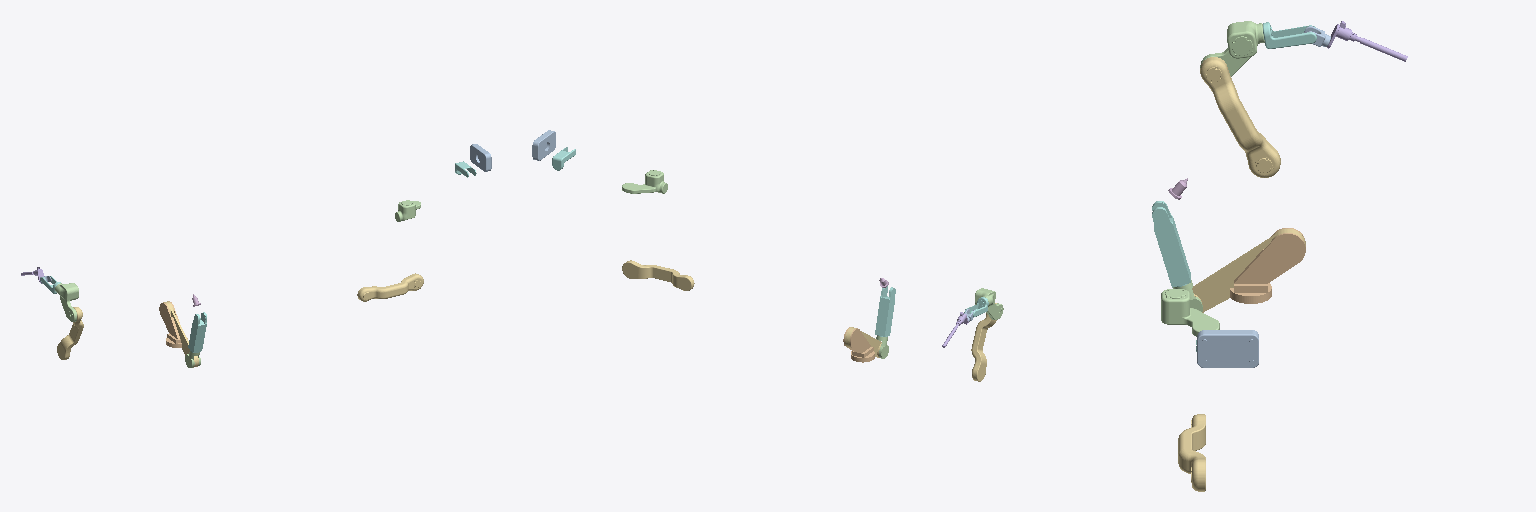
--- Render facts (derived) ---
3 views of the same robot in one strip: view 1: azimuth 30°, elevation 25°; view 2: azimuth 150°, elevation 25°; view 3: azimuth 270°, elevation 25° (orthographic).
Model multirobot with 25 links and 24 joints (16 revolute, 8 fixed), rooted at world, posed joints at zero except 1 at the middle of their limits (sero_2_j2 = 1.43).
Links seen in each view (by area): view 1: sero_3_link_2, sero_1_link_2, sero_1_link_3, sero_2_link_4, sero_2_link_1; view 2: sero_3_link_2, sero_1_link_2, sero_2_link_4, sero_3_link_3, sero_2_link_1, sero_3_endeffector_base; view 3: sero_1_link_2, sero_2_link_1, sero_3_endeffector_base, sero_2_link_4, sero_2_link_2, sero_3_link_2, sero_1_link_3, sero_3_link_3, sero_1_link_4, sero_1_endeffector.
Link boxes in pixels (x1,y1,x2,y2): sero_3_link_2: (357,273,423,301); sero_1_link_2: (57,307,83,359); sero_1_link_3: (55,283,78,321); sero_2_link_4: (188,312,206,352); sero_2_link_1: (159,301,187,347); sero_3_link_2: (622,260,694,290); sero_1_link_2: (971,303,996,381); sero_2_link_4: (875,286,895,336); sero_3_link_3: (622,170,667,193); sero_2_link_1: (843,327,874,362); sero_3_endeffector_base: (532,130,555,160); sero_1_link_2: (1200,57,1280,177); sero_2_link_1: (1230,228,1305,303); sero_3_endeffector_base: (1197,330,1258,367); sero_2_link_4: (1152,201,1190,287); sero_2_link_2: (1192,229,1305,312); sero_3_link_2: (1178,414,1205,491); sero_1_link_3: (1200,21,1264,76); sero_3_link_3: (1161,289,1219,336); sero_1_link_4: (1263,22,1316,48); sero_1_endeffector: (1327,21,1407,61).
Size in the robot's own frame: 3.73 by 1.03 by 1.17 metres.
Meshes: 21 distinct files referenced, 14 mesh visuals loaded (11 binary STL); not drawn: 10 (reference not matched to a file when rendering).

The robot description file, URDF, robot "multirobot":
<robot name="multirobot">

<link name="world" />
    


<!-- Robot description for the SERO-1 robot -->
<link name="sero_1_base">
<visual>
<origin xyz="1.8041124150158793782e-16 0.05566523198650896731 0" rpy="0 -0 0" />
<geometry>
<mesh filename="package://multirobot/meshes_sero_1/base.stl"/>
</geometry>
<material name="base_material">
<color rgba="0.89019607843137249503 0.69803921568627447236 0.63921568627450975342 1.0"/>
</material>
</visual>
<collision>
<origin xyz="1.8041124150158793782e-16 0.05566523198650896731 0" rpy="0 -0 0" />
<geometry>
<mesh filename="package://multirobot/meshes_sero_1/base.stl"/>
</geometry>
</collision>
<inertial>
<origin xyz="1.1000114868219835157e-10 0.02821395950736303726 0.048033342389235664238" rpy="0 0 0"/>
<mass value="35.08705239524790187" />
<inertia ixx="0.23851697130036866867" ixy="2.720782460153843585e-10"  ixz="-1.0025050005633659025e-10" iyy="0.15387922346861418466" iyz="0.0068756425646022177947" izz="0.32171277328667874373" />
</inertial>
</link>

<link name="sero_1_link_1">
<visual>
<origin xyz="-3.4165628273044953481e-23 4.4252861730203675289e-18 0" rpy="3.141592653589793116 8.8261758232621279394e-33 1.694065894508600302e-21" />
<geometry>
<mesh filename="package://multirobot/meshes_sero_1/link_1.stl"/>
</geometry>
<material name="link_1_material">
<color rgba="0.92156862745098033773 0.80000000000000004441 0.65490196078431373028 1.0"/>
</material>
</visual>
<collision>
<origin xyz="-3.4165628273044953481e-23 4.4252861730203675289e-18 0" rpy="3.141592653589793116 8.8261758232621279394e-33 1.694065894508600302e-21" />
<geometry>
<mesh filename="package://multirobot/meshes_sero_1/link_1.stl"/>
</geometry>
</collision>
<inertial>
<origin xyz="-0.015239689133278312705 -0.021586960622581662095 -0.052922200956408961547" rpy="0 0 0"/>
<mass value="18.368766956758115327" />
<inertia ixx="0.091881923345227628497" ixy="-0.003928507823349794946"  ixz="-0.0058549145264777261236" iyy="0.077315975512156784322" iyz="-0.018619533982869217181" izz="0.081329742201552590597" />
</inertial>
</link>

<link name="sero_1_link_2">
<visual>
<origin xyz="-1.3877787807814456755e-17 2.7755575615628913511e-17 1.0587911840678754238e-22" rpy="3.141592653589793116 8.4703294725430033907e-22 -5.5511151231257827021e-17" />
<geometry>
<mesh filename="package://multirobot/meshes_sero_1/link_2.stl"/>
</geometry>
<material name="link_2_material">
<color rgba="0.94117647058823528106 0.87450980392156862919 0.67843137254901964006 1.0"/>
</material>
</visual>
<collision>
<origin xyz="-1.3877787807814456755e-17 2.7755575615628913511e-17 1.0587911840678754238e-22" rpy="3.141592653589793116 8.4703294725430033907e-22 -5.5511151231257827021e-17" />
<geometry>
<mesh filename="package://multirobot/meshes_sero_1/link_2.stl"/>
</geometry>
</collision>
<inertial>
<origin xyz="-9.7069511742337241048e-09 0.21218755221227947327 -0.047778672194228995196" rpy="0 0 0"/>
<mass value="23.673948033547031145" />
<inertia ixx="0.6558161243846677424" ixy="-4.2793701182063200488e-08"  ixz="1.457960283351658051e-08" iyy="0.037401631785456156132" iyz="0.0087992679245661176157" izz="0.65336519359711076049" />
</inertial>
</link>

<link name="sero_1_link_3">
<visual>
<origin xyz="-1.3877787807814456755e-17 0 -0.02999999999999999542" rpy="0 1.6940658945086006781e-21 0" />
<geometry>
<mesh filename="package://multirobot/meshes_sero_1/link_3.stl"/>
</geometry>
<material name="link_3_material">
<color rgba="0.79607843137254896693 0.90588235294117647189 0.74509803921568629193 1.0"/>
</material>
</visual>
<collision>
<origin xyz="-1.3877787807814456755e-17 0 -0.02999999999999999542" rpy="0 1.6940658945086006781e-21 0" />
<geometry>
<mesh filename="package://multirobot/meshes_sero_1/link_3.stl"/>
</geometry>
</collision>
<inertial>
<origin xyz="0.11674575857875565954 0.092289914347079254897 0.0096232090141137420491" rpy="0 0 0"/>
<mass value="17.046409404154786671" />
<inertia ixx="0.074800627899214822136" ixy="-0.036857779963696414571"  ixz="-0.0059546580572337063156" iyy="0.07889465668196611603" iyz="-0.011906977912637863731" izz="0.11406256275854873006" />
</inertial>
</link>

<link name="sero_1_link_4">
<visual>
<origin xyz="0 0 2.7755575615628913511e-17" rpy="-3.141592653589793116 -0 2.1175823681357508477e-22" />
<geometry>
<mesh filename="package://multirobot/meshes_sero_1/link_4.stl"/>
</geometry>
<material name="link_4_material">
<color rgba="0.73725490196078435901 0.9372549019607843146 0.91764705882352937127 1.0"/>
</material>
</visual>
<collision>
<origin xyz="0 0 2.7755575615628913511e-17" rpy="-3.141592653589793116 -0 2.1175823681357508477e-22" />
<geometry>
<mesh filename="package://multirobot/meshes_sero_1/link_4.stl"/>
</geometry>
</collision>
<inertial>
<origin xyz="3.2977564252776502989e-09 -0.02702676809649579362 -0.062304227824277469416" rpy="0 0 0"/>
<mass value="3.4104383191089318039" />
<inertia ixx="0.013598205960530259859" ixy="3.5112585730628976798e-10"  ixz="-2.2034950615846304763e-10" iyy="0.013866957658279771906" iyz="-0.0019762165524031542925" izz="0.0046399785925361671651" />
</inertial>
</link>

<link name="sero_1_link_5">
<visual>
<origin xyz="0 0 -0.058999999999999996891" rpy="0 -0 0" />
<geometry>
<mesh filename="package://multirobot/meshes_sero_1/link_5.stl"/>
</geometry>
<material name="link_5_material">
<color rgba="0.76078431372549015776 0.83921568627450982003 0.92549019607843141522 1.0"/>
</material>
</visual>
<collision>
<origin xyz="0 0 -0.058999999999999996891" rpy="0 -0 0" />
<geometry>
<mesh filename="package://multirobot/meshes_sero_1/link_5.stl"/>
</geometry>
</collision>
<inertial>
<origin xyz="-4.0468429552451979308e-09 0.039174510825137690007 -0.029499999335107222193" rpy="0 0 0"/>
<mass value="1.3085442124892889826" />
<inertia ixx="0.0013064926249374241018" ixy="9.912058132376598351e-11"  ixz="-1.9731401884078835894e-09" iyy="0.0006855126077186873227" iyz="-5.917739079764238076e-12" izz="0.0010923022573062720654" />
</inertial>
</link>

<link name="sero_1_endeffector">
<visual>
<origin xyz="0 -0.060000000000000053291 -0.010000000000000008882" rpy="-3.141592653589793116 -0 -4.2351647362715007549e-22" />
<geometry>
<mesh filename="package://multirobot/meshes_sero_1/endeffector.stl"/>
</geometry>
<material name="endeffector_material">
<color rgba="0.80000000000000004441 0.74901960784313725839 0.91372549019607840481 1.0"/>
</material>
</visual>
<collision>
<origin xyz="0 -0.060000000000000053291 -0.010000000000000008882" rpy="-3.141592653589793116 -0 -4.2351647362715007549e-22" />
<geometry>
<mesh filename="package://multirobot/meshes_sero_1/endeffector.stl"/>
</geometry>
</collision>
<inertial>
<origin xyz="-2.007927628673531952e-08 -0.055461111974627962107 -0.097485938408557723522" rpy="0 0 0"/>
<mass value="2.2359613690447335266" />
<inertia ixx="0.020791268849754438591" ixy="-8.8059871773682104797e-10"  ixz="1.914123719498550581e-10" iyy="0.020196057963709122818" iyz="-0.00095402857951714054117" izz="0.0010816277361651634864" />
</inertial>
</link>

<joint name="sero_1_j6" type="revolute">
<origin xyz="1.1102230246251565404e-16 0.079999999999999960032 -0.029499999999999998446" rpy="1.5707963267948892305 -1.5707963265184670121 0" />
<parent link="sero_1_link_5" />
<child link="sero_1_endeffector" />
<axis xyz="0 0 1"/>
<limit effort="1" velocity="20" lower="-3.141592653589793116" upper="3.141592653589793116"/>
<joint_properties friction="0.0"/>
</joint>

<joint name="sero_1_j5" type="revolute">
<origin xyz="-0.030000000000000016237 -0.035000000000000142109 -0.18499999999999999778" rpy="-1.570796326794896558 0.57407536946603265893 1.57079632679489678" />
<parent link="sero_1_link_4" />
<child link="sero_1_link_5" />
<axis xyz="0 0 1"/>
<limit effort="1" velocity="20" lower="-2.0653116879748694146" upper="2.0650581841370048153"/>
<joint_properties friction="0.0"/>
</joint>

<joint name="sero_1_j4" type="revolute">
<origin xyz="0.22000000000000002887 0.12083333333333334814 -0.016980779096484183155" rpy="-1.5707963268408067226 -1.5707952499523358814 1.5707963267450772982" />
<parent link="sero_1_link_3" />
<child link="sero_1_link_4" />
<axis xyz="0 0 1"/>
<limit effort="1" velocity="20" lower="-3.141592653589793116" upper="3.141592653589793116"/>
<joint_properties friction="0.0"/>
</joint>

<joint name="sero_1_j3" type="revolute">
<origin xyz="0 0.44999999999999995559 1.2533970036995509267e-18" rpy="3.141592653589793116 3.529925104387571233e-17 -2.8217730704100758565" />
<parent link="sero_1_link_2" />
<child link="sero_1_link_3" />
<axis xyz="0 0 1"/>
<limit effort="1" velocity="20" lower="-3.2351423014966895764" upper="1.7570410727549981011"/>
<joint_properties friction="0.0"/>
</joint>

<joint name="sero_1_j2" type="revolute">
<origin xyz="0 -0.060000000000000004718 -0.14500000000000001776" rpy="-1.570796326794896558 -0.46704913247174045798 1.570796326794896336" />
<parent link="sero_1_link_1" />
<child link="sero_1_link_2" />
<axis xyz="0 0 1"/>
<limit effort="1" velocity="20" lower="-1.8110811019912356201" upper="1.8362307380071132279"/>
<joint_properties friction="0.0"/>
</joint>

<joint name="sero_1_j1" type="revolute">
<origin xyz="1.8041113859237242606e-16 0.055665231986508988127 0.10499999999999999611" rpy="-3.1415926535897926719 6.8688042396975808885e-17 8.1606641769779487982e-06" />
<parent link="sero_1_base" />
<child link="sero_1_link_1" />
<axis xyz="0 0 1"/>
<limit effort="1" velocity="20" lower="-3.141592653589793116" upper="3.141592653589793116"/>
<joint_properties friction="0.0"/>
</joint>

<joint name="fixed_link_to_world" type="fixed">
<parent link="world" />
<child link="sero_1_base" />
</joint>



<!-- Robot description for the SERO-2 robot  -->
<link name="sero_2_base">
<visual>
<origin xyz="-1.5815932371176240324e-17 0.0003676064896688987756 1.2462514743223658495e-17" rpy="-9.3394600618250885692e-16 1.4558378780933280025e-22 -1.0606777952125936304e-24" />
<geometry>
<mesh filename="package://multirobot/meshes_sero_2/base.stl"/>
</geometry>
<material name="base_material">
<color rgba="0.89019607843137249503 0.69803921568627447236 0.63921568627450975342 1.0"/>
</material>
</visual>
<collision>
<origin xyz="-1.5815932371176240324e-17 0.0003676064896688987756 1.2462514743223658495e-17" rpy="-9.3394600618250885692e-16 1.4558378780933280025e-22 -1.0606777952125936304e-24" />
<geometry>
<mesh filename="package://multirobot/meshes_sero_2/base.stl"/>
</geometry>
</collision>
<inertial>
<origin xyz="-1.1008906693734771152e-17 0.01712945505275543373 0.053277045661753889838" rpy="0 0 0"/>
<mass value="49.341703062128146939" />
<inertia ixx="0.48030579732272715709" ixy="2.2775645730969955764e-16"  ixz="-1.5614007003723059311e-19" iyy="0.32715051410827444833" iyz="0.026418917266756287293" izz="0.66330772835406781596" />
</inertial>
</link>

<link name="sero_2_link_1">
<visual>
<origin xyz="0 -6.9388937082278788177e-18 0" rpy="3.141592653589793116 -6.6648828361145180298e-38 0" />
<geometry>
<mesh filename="package://multirobot/meshes_sero_2/link_01.stl"/>
</geometry>
<material name="link_01_material">
<color rgba="0.92156862745098033773 0.80000000000000004441 0.65490196078431373028 1.0"/>
</material>
</visual>
<collision>
<origin xyz="0 -6.9388937082278788177e-18 0" rpy="3.141592653589793116 -6.6648828361145180298e-38 0" />
<geometry>
<mesh filename="package://multirobot/meshes_sero_2/link_01.stl"/>
</geometry>
</collision>
<inertial>
<origin xyz="-1.3930947794738095121e-17 0.039678416839350458267 -0.088135224166391870626" rpy="0 0 0"/>
<mass value="19.091905974861962392" />
<inertia ixx="0.17356539548813906815" ixy="1.3064932428437966355e-41"  ixz="1.1588565508314935939e-38" iyy="0.10969326521272225461" iyz="0.06154665368139393411" izz="0.097209143603018868807" />
</inertial>
</link>

<link name="sero_2_link_2">
<visual>
<origin xyz="0.3869932029135638718 5.5511151231257827021e-17 -0.020000000000000000416" rpy="-1.4791141972893971351e-31 -0 0" />
<geometry>
<mesh filename="package://multirobot/meshes_sero_2/link_02.stl"/>
</geometry>
<material name="link_02_material">
<color rgba="0.94117647058823528106 0.87450980392156862919 0.67843137254901964006 1.0"/>
</material>
</visual>
<collision>
<origin xyz="0.3869932029135638718 5.5511151231257827021e-17 -0.020000000000000000416" rpy="-1.4791141972893971351e-31 -0 0" />
<geometry>
<mesh filename="package://multirobot/meshes_sero_2/link_02.stl"/>
</geometry>
</collision>
<inertial>
<origin xyz="0.19868099262593577614 5.3251367445785958629e-06 -0.019999999999999996947" rpy="0 0 0"/>
<mass value="13.731956551120582333" />
<inertia ixx="0.018356645947704766653" ixy="-5.0560961534334941903e-06"  ixz="5.2055933418348150452e-32" iyy="0.51193263504671415731" iyz="-2.3665497291348866197e-32" izz="0.52790229780144803939" />
</inertial>
</link>

<link name="sero_2_link_3">
<visual>
<origin xyz="0.082936154343289242297 0.040000000000000035527 0.051595448702573779021" rpy="1.570796326794896558 -9.8607613152626475676e-32 -5.5511151231257827021e-17" />
<geometry>
<mesh filename="package://multirobot/meshes_sero_2/link_03.stl"/>
</geometry>
<material name="link_03_material">
<color rgba="0.79607843137254896693 0.90588235294117647189 0.74509803921568629193 1.0"/>
</material>
</visual>
<collision>
<origin xyz="0.082936154343289242297 0.040000000000000035527 0.051595448702573779021" rpy="1.570796326794896558 -9.8607613152626475676e-32 -5.5511151231257827021e-17" />
<geometry>
<mesh filename="package://multirobot/meshes_sero_2/link_03.stl"/>
</geometry>
</collision>
<inertial>
<origin xyz="0.027737840329478243018 2.7755575615628913511e-17 0.020000000000000087153" rpy="0 0 0"/>
<mass value="4.3889152375046247556" />
<inertia ixx="0.0061998414225303945593" ixy="1.1033789677823471709e-18"  ixz="-6.0558728947049249777e-34" iyy="0.01303827492757124451" iyz="-6.4283658511776695879e-34" izz="0.012341226150433244266" />
</inertial>
</link>

<link name="sero_2_link_4">
<visual>
<origin xyz="-5.7182229731586198856e-18 -1.1102230246251565404e-16 -0.0050000000000000044409" rpy="1.570796326794896558 7.3955709864469856757e-32 2.7117093616972280811e-31" />
<geometry>
<mesh filename="package://multirobot/meshes_sero_2/link_04.stl"/>
</geometry>
<material name="link_04_material">
<color rgba="0.73725490196078435901 0.9372549019607843146 0.91764705882352937127 1.0"/>
</material>
</visual>
<collision>
<origin xyz="-5.7182229731586198856e-18 -1.1102230246251565404e-16 -0.0050000000000000044409" rpy="1.570796326794896558 7.3955709864469856757e-32 2.7117093616972280811e-31" />
<geometry>
<mesh filename="package://multirobot/meshes_sero_2/link_04.stl"/>
</geometry>
</collision>
<inertial>
<origin xyz="6.706124958959406219e-08 2.5645657196301469083e-07 -0.15365038198320141172" rpy="0 0 0"/>
<mass value="15.107736051004897249" />
<inertia ixx="0.13214990381477231818" ixy="4.4796122324437923437e-08"  ixz="-3.024594803775144215e-07" iyy="0.13305214321537708888" iyz="1.9559808232033071674e-07" izz="0.016366262810169347752" />
</inertial>
</link>

<link name="sero_2_link_5">
<visual>
<origin xyz="-0.069999999999999895639 -1.1102230246251565404e-16 0.010000000000000005412" rpy="1.570796326794896558 1.570796326794896558 0" />
<geometry>
<mesh filename="package://multirobot/meshes_sero_2/link_05.stl"/>
</geometry>
<material name="link_05_material">
<color rgba="0.76078431372549015776 0.83921568627450982003 0.92549019607843141522 1.0"/>
</material>
</visual>
<collision>
<origin xyz="-0.069999999999999895639 -1.1102230246251565404e-16 0.010000000000000005412" rpy="1.570796326794896558 1.570796326794896558 0" />
<geometry>
<mesh filename="package://multirobot/meshes_sero_2/link_05.stl"/>
</geometry>
</collision>
<inertial>
<origin xyz="-0.035772312271263068117 -1.082749957061830637e-16 -0.019999999999999996947" rpy="0 0 0"/>
<mass value="2.3102574452715738396" />
<inertia ixx="0.0010511771695403894673" ixy="2.3186664240757424612e-19"  ixz="-1.7385449251018909641e-34" iyy="0.003125760927845208214" iyz="7.0337489501620479173e-34" izz="0.0035261880285266476026" />
</inertial>
</link>

<link name="sero_2_endeffector">
<visual>
<origin xyz="5.9164567891575885406e-31 -1.1102230246251565404e-16 0" rpy="3.141592653589793116 -0 9.8607613152626475676e-32" />
<geometry>
<mesh filename="package://multirobot/meshes_sero_2/ee.stl"/>
</geometry>
<material name="ee_material">
<color rgba="0.85098039215686271941 0.7568627450980391913 0.86666666666666669627 1.0"/>
</material>
</visual>
<collision>
<origin xyz="5.9164567891575885406e-31 -1.1102230246251565404e-16 0" rpy="3.141592653589793116 -0 9.8607613152626475676e-32" />
<geometry>
<mesh filename="package://multirobot/meshes_sero_2/ee.stl"/>
</geometry>
</collision>
<inertial>
<origin xyz="4.5844704651727837579e-19 -1.1074837707529742556e-16 -0.029621700270214084555" rpy="0 0 0"/>
<mass value="0.79097658475267251799" />
<inertia ixx="0.00046375431396383494332" ixy="2.2864852994603759838e-34"  ixz="8.1535948214775546414e-35" iyy="0.00046375431396383494332" iyz="-1.1475164562417600293e-20" izz="0.00020671818738927610188" />
</inertial>
</link>

<joint name="fastened" type="fixed">
<origin xyz="-0.095000000000000028866 0 -0.019999999999999965722" rpy="3.141592653589793116 -1.5707963267948950037 0" />
<parent link="sero_2_link_5" />
<child link="sero_2_endeffector" />
<axis xyz="0 0 1"/>
<limit effort="1" velocity="20" />
<joint_properties friction="0.0"/>
</joint>

<joint name="sero_2_j5" type="revolute">
<origin xyz="0.019999999999999986539 -1.1102230246251565404e-16 -0.32499999999999845679" rpy="1.5707963267948970021 -0.6422904971427879639 1.5707963267948992225" />
<parent link="sero_2_link_4" />
<child link="sero_2_link_5" />
<axis xyz="0 0 1"/>
<limit effort="1" velocity="20" lower="-0.1570796326794896558" upper="3.2812189937493396741"/>
<joint_properties friction="0.0"/>
</joint>

<joint name="sero_2_j4" type="revolute">
<origin xyz="0.1052999999999999492 0 0.020000000000000059397" rpy="5.5511151231257814695e-17 -1.5707963267948952257 0" />
<parent link="sero_2_link_3" />
<child link="sero_2_link_4" />
<axis xyz="0 0 1"/>
<limit effort="1" velocity="20" lower="-3.141592653589793116" upper="3.141592653589793116"/>
<joint_properties friction="0.0"/>
</joint>

<joint name="sero_2_j3" type="revolute">
<origin xyz="0.47249999999999992006 5.5511151231257827021e-17 -0.039999999999999993894" rpy="-3.9099808047474802371e-16 6.5349778921725544513e-18 -1.8702914936790970835" />
<parent link="sero_2_link_2" />
<child link="sero_2_link_3" />
<axis xyz="0 0 1"/>
<limit effort="1" velocity="20" lower="-0.36651914291880921537" upper="3.4906585039886590671"/>
<joint_properties friction="0.0"/>
</joint>

<joint name="sero_2_j2" type="revolute">
<origin xyz="-0.020000000000000003886 0.14873863542433760077 -0.20873863542433754303" rpy="1.5707963267948958919 0.855974613270912843 -1.57079632679489678" />
<parent link="sero_2_link_1" />
<child link="sero_2_link_2" />
<axis xyz="0 0 1"/>
<limit effort="1" velocity="20" lower="0.54105206811824213542" upper="2.3212879051524581975"/>
<joint_properties friction="0.0"/>
</joint>

<joint name="sero_2_j1" type="revolute">
<origin xyz="-1.3877787807814459837e-17 0.060367606489668872161 0.12000000000000006495" rpy="-3.1415926535897793492 -8.8628477392845443571e-22 3.141592653589793116" />
<parent link="sero_2_base"/>
<child link="sero_2_link_1" />
<axis xyz="0 0 1"/>
<limit effort="1" velocity="20" lower="-3.141592653589793116" upper="3.141592653589793116"/>
<joint_properties friction="0.0"/>
</joint>

<joint name="sero_1_to_sero_2" type="fixed">
  <parent link="sero_1_base"/>
  <child link="sero_2_base"/>
  <origin xyz="1 0 0" rpy="0 0 0"/>
</joint>



<!-- Robot description for the SERO-3 robot -->
<link name="sero_3_base">
<visual>
<origin xyz="-4.1633363423443370266e-17 1.6949752565162061855e-18 -5.5154662533553587949e-34" rpy="-3.254009893154236877e-16 8.6281661508548166217e-32 1.2347465433156991646e-16" />
<geometry>
<mesh filename="package://multirobot/meshes_sero_3/base.stl"/>
</geometry>
<material name="base_material">
<color rgba="0.89019607843137249503 0.69803921568627447236 0.63921568627450975342 1.0"/>
</material>
</visual>
<collision>
<origin xyz="-4.1633363423443370266e-17 1.6949752565162061855e-18 -5.5154662533553587949e-34" rpy="-3.254009893154236877e-16 8.6281661508548166217e-32 1.2347465433156991646e-16" />
<geometry>
<mesh filename="package://multirobot/meshes_sero_3/base.stl"/>
</geometry>
</collision>
<inertial>
<origin xyz="-1.4191131412431651619e-17 3.093208156293898791e-17 0.039865010471469702891" rpy="0 0 0"/>
<mass value="29.561020908170693389" />
<inertia ixx="0.56414288287999059257" ixy="6.1629758220391547298e-32"  ixz="-2.6008615487439589667e-32" iyy="0.5641428828799902595" iyz="1.5651332502670880486e-16" izz="1.0451288975690682381" />
</inertial>
</link>

<link name="sero_3_link_1">
<visual>
<origin xyz="-6.1629758220391547298e-33 4.8470540592812887996e-18 0" rpy="3.141592653589793116 -2.0861283505423087262e-43 0" />
<geometry>
<mesh filename="package://multirobot/meshes_sero_3/link_1.stl"/>
</geometry>
<material name="link_1_material">
<color rgba="0.92156862745098033773 0.80000000000000004441 0.65490196078431373028 1.0"/>
</material>
</visual>
<collision>
<origin xyz="-6.1629758220391547298e-33 4.8470540592812887996e-18 0" rpy="3.141592653589793116 -2.0861283505423087262e-43 0" />
<geometry>
<mesh filename="package://multirobot/meshes_sero_3/link_1.stl"/>
</geometry>
</collision>
<inertial>
<origin xyz="2.5812154935817390889e-07 0.020078728528027917077 -0.084265679701914092403" rpy="0 0 0"/>
<mass value="32.098264787234505491" />
<inertia ixx="0.15183599668872910238" ixy="-1.1318804273050995291e-06"  ixz="4.1015787527610980043e-07" iyy="0.12206161215963268196" iyz="0.00514067802598717951" izz="0.12973629061825234232" />
</inertial>
</link>

<link name="sero_3_link_2">
<visual>
<origin xyz="0 4.5924254968025766839e-18 4.1183628318625710158e-18" rpy="-3.141592653589793116 9.8607613152626475676e-32 -1.3749793942868710628e-32" />
<geometry>
<mesh filename="package://multirobot/meshes_sero_3/link_2.stl"/>
</geometry>
<material name="link_2_material">
<color rgba="0.94117647058823528106 0.87450980392156862919 0.67843137254901964006 1.0"/>
</material>
</visual>
<collision>
<origin xyz="0 4.5924254968025766839e-18 4.1183628318625710158e-18" rpy="-3.141592653589793116 9.8607613152626475676e-32 -1.3749793942868710628e-32" />
<geometry>
<mesh filename="package://multirobot/meshes_sero_3/link_2.stl"/>
</geometry>
</collision>
<inertial>
<origin xyz="-0.31499983020000299483 -5.9338950341248018232e-08 -0.1048694271057695887" rpy="0 0 0"/>
<mass value="95.412481284338156229" />
<inertia ixx="0.30014578780677336756" ixy="2.7683924706706791416e-07"  ixz="2.5259250984795803334e-06" iyy="5.0701114070706099213" iyz="-3.3364583905554261746e-07" izz="4.9823951617652841861" />
</inertial>
</link>

<link name="sero_3_link_3">
<visual>
<origin xyz="0 0 -3.5177085194790902871e-18" rpy="1.570796326794896558 -1.9721522630525295135e-31 1.3755759769189022776e-33" />
<geometry>
<mesh filename="package://multirobot/meshes_sero_3/link_3.stl"/>
</geometry>
<material name="link_3_material">
<color rgba="0.79607843137254896693 0.90588235294117647189 0.74509803921568629193 1.0"/>
</material>
</visual>
<collision>
<origin xyz="0 0 -3.5177085194790902871e-18" rpy="1.570796326794896558 -1.9721522630525295135e-31 1.3755759769189022776e-33" />
<geometry>
<mesh filename="package://multirobot/meshes_sero_3/link_3.stl"/>
</geometry>
</collision>
<inertial>
<origin xyz="-0.12787550742648204349 -0.086695678159673439378 -0.13092497492624188826" rpy="0 0 0"/>
<mass value="84.06211694702932391" />
<inertia ixx="0.72701390054885139946" ixy="-0.56396100688611627838"  ixz="-0.3398755684914888664" iyy="2.2596801602232305939" iyz="-0.076724939144711401529" izz="2.471848827686650818" />
</inertial>
</link>

<link name="sero_3_link_4">
<visual>
<origin xyz="0 0 3.0295804379226702294e-18" rpy="3.141592653589793116 -0 -3.8393994794198495367e-32" />
<geometry>
<mesh filename="package://multirobot/meshes_sero_3/link_4.stl"/>
</geometry>
<material name="link_4_material">
<color rgba="0.73725490196078435901 0.9372549019607843146 0.91764705882352937127 1.0"/>
</material>
</visual>
<collision>
<origin xyz="0 0 3.0295804379226702294e-18" rpy="3.141592653589793116 -0 -3.8393994794198495367e-32" />
<geometry>
<mesh filename="package://multirobot/meshes_sero_3/link_4.stl"/>
</geometry>
</collision>
<inertial>
<origin xyz="-0.0057366460591120483486 -0.056799838397228498421 -0.078907548477852723634" rpy="0 0 0"/>
<mass value="35.563010627334307401" />
<inertia ixx="0.14795985643388004371" ixy="-0.006773630552061549355"  ixz="-0.00022289820645230695706" iyy="0.19264265280028286531" iyz="-0.002206662293176273916" izz="0.2475639065566472008" />
</inertial>
</link>

<link name="sero_3_endeffector_base">
<visual>
<origin xyz="6.6613381471808452436e-18 0 -0.080000000000000071054" rpy="3.141592653589793116 -0 0" />
<geometry>
<mesh filename="package://multirobot/meshes_sero_3/ee_base.stl"/>
</geometry>
<material name="ee_base_material">
<color rgba="0.76078431372549015776 0.83921568627450982003 0.92549019607843141522 1.0"/>
</material>
</visual>
<collision>
<origin xyz="6.6613381471808452436e-18 0 -0.080000000000000071054" rpy="3.141592653589793116 -0 0" />
<geometry>
<mesh filename="package://multirobot/meshes_sero_3/ee_base.stl"/>
</geometry>
</collision>
<inertial>
<origin xyz="9.8538615821355001922e-18 1.3275424895558869447e-17 -0.0057551348153010856157" rpy="0 0 0"/>
<mass value="13.798178184326982176" />
<inertia ixx="0.028682988283033793858" ixy="0"  ixz="0" iyy="0.074982477117703713598" iyz="6.2565298301991734419e-33" izz="0.097983436923002042995" />
</inertial>
</link>

<link name="sero_3_v_tube">
<visual>
<origin xyz="0 -8.326672683761289173e-18 -0.044999999999999928946" rpy="3.141592653589793116 1.0342508817956038219e-31 0" />
<geometry>
<mesh filename="package://multirobot/meshes_sero_3/v_tube.stl"/>
</geometry>
<material name="v_tube_material">
<color rgba="0.80000000000000004441 0.74901960784313725839 0.91372549019607840481 1.0"/>
</material>
</visual>
<collision>
<origin xyz="0 -8.326672683761289173e-18 -0.044999999999999928946" rpy="3.141592653589793116 1.0342508817956038219e-31 0" />
<geometry>
<mesh filename="package://multirobot/meshes_sero_3/v_tube.stl"/>
</geometry>
</collision>
<inertial>
<origin xyz="1.7426086658785223658e-19 -8.326672683761289173e-18 -0.023353658507928257843" rpy="0 0 0"/>
<mass value="0.16852026592631189073" />
<inertia ixx="3.3195910788590593564e-05" ixy="-6.5467390585808818723e-36"  ixz="-3.6792700159404011462e-36" iyy="3.3195910788590593564e-05" iyz="0" izz="1.3625480037700539164e-05" />
</inertial>
</link>

<joint name="sero_3_vacuum_1" type="fixed">
<origin xyz="0.094999999999999987232 0.044999999999999706901 -0.035000000000000031086" rpy="-2.5673907444551896414e-16 -4.5080215706672108797e-30 1.570796326794896558" />
<parent link="sero_3_endeffector_base" />
<child link="sero_3_v_tube" />
<axis xyz="0 0 1"/>
<limit effort="1" velocity="20" />
<joint_properties friction="0.0"/>
</joint>

<link name="sero_3_v_tube_2">
<visual>
<origin xyz="0 -4.9960036098762270031e-18 -0.044999999999999928946" rpy="3.141592653589793116 1.0342508817956038219e-31 0" />
<geometry>
<mesh filename="package://multirobot/meshes_sero_3/v_tube.stl"/>
</geometry>
<material name="v_tube_material">
<color rgba="0.80000000000000004441 0.74901960784313725839 0.91372549019607840481 1.0"/>
</material>
</visual>
<collision>
<origin xyz="0 -4.9960036098762270031e-18 -0.044999999999999928946" rpy="3.141592653589793116 1.0342508817956038219e-31 0" />
<geometry>
<mesh filename="package://multirobot/meshes_sero_3/v_tube.stl"/>
</geometry>
</collision>
<inertial>
<origin xyz="1.7426086658785223658e-19 -4.9960036098762270031e-18 -0.023353658507928257843" rpy="0 0 0"/>
<mass value="0.16852026592631189073" />
<inertia ixx="3.3195910788590593564e-05" ixy="-6.5467390585808818723e-36"  ixz="-3.6792700159404011462e-36" iyy="3.3195910788590593564e-05" iyz="0" izz="1.3625480037700539164e-05" />
</inertial>
</link>

<joint name="sero_3_vacuum_2" type="fixed">
<origin xyz="0.095000000000000014988 -0.04500000000000015099 -0.035000000000000031086" rpy="-2.5673907444551896414e-16 -4.5080215706672108797e-30 1.570796326794896558" />
<parent link="sero_3_endeffector_base" />
<child link="sero_3_v_tube_2" />
<axis xyz="0 0 1"/>
<limit effort="1" velocity="20" />
<joint_properties friction="0.0"/>
</joint>

<link name="sero_3_v_tube_3">
<visual>
<origin xyz="0 5.5511151240626339132e-18 -0.044999999999999928946" rpy="3.141592653589793116 1.0342508817956038219e-31 0" />
<geometry>
<mesh filename="package://multirobot/meshes_sero_3/v_tube.stl"/>
</geometry>
<material name="v_tube_material">
<color rgba="0.80000000000000004441 0.74901960784313725839 0.91372549019607840481 1.0"/>
</material>
</visual>
<collision>
<origin xyz="0 5.5511151240626339132e-18 -0.044999999999999928946" rpy="3.141592653589793116 1.0342508817956038219e-31 0" />
<geometry>
<mesh filename="package://multirobot/meshes_sero_3/v_tube.stl"/>
</geometry>
</collision>
<inertial>
<origin xyz="1.7426086658785223658e-19 5.5511151240626331428e-18 -0.023353658507928257843" rpy="0 0 0"/>
<mass value="0.16852026592631189073" />
<inertia ixx="3.3195910788590593564e-05" ixy="-6.5467390585808818723e-36"  ixz="-3.6792700159404011462e-36" iyy="3.3195910788590593564e-05" iyz="0" izz="1.3625480037700539164e-05" />
</inertial>
</link>

<joint name="sero_3_vacuum_3" type="fixed">
<origin xyz="-0.094999999999999987232 0.044999999999999706901 -0.035000000000000031086" rpy="-2.5673907444551896414e-16 -4.5080215706672108797e-30 1.570796326794896558" />
<parent link="sero_3_endeffector_base" />
<child link="sero_3_v_tube_3" />
<axis xyz="0 0 1"/>
<limit effort="1" velocity="20" />
<joint_properties friction="0.0"/>
</joint>

<link name="sero_3_v_tube_4">
<visual>
<origin xyz="0 8.8817841979453295003e-18 -0.044999999999999928946" rpy="3.141592653589793116 1.0342508817956038219e-31 0" />
<geometry>
<mesh filename="package://multirobot/meshes_sero_3/v_tube.stl"/>
</geometry>
<material name="v_tube_material">
<color rgba="0.80000000000000004441 0.74901960784313725839 0.91372549019607840481 1.0"/>
</material>
</visual>
<collision>
<origin xyz="0 8.8817841979453295003e-18 -0.044999999999999928946" rpy="3.141592653589793116 1.0342508817956038219e-31 0" />
<geometry>
<mesh filename="package://multirobot/meshes_sero_3/v_tube.stl"/>
</geometry>
</collision>
<inertial>
<origin xyz="1.7426086658785223658e-19 8.8817841979453295003e-18 -0.023353658507928257843" rpy="0 0 0"/>
<mass value="0.16852026592631189073" />
<inertia ixx="3.3195910788590593564e-05" ixy="-6.5467390585808818723e-36"  ixz="-3.6792700159404011462e-36" iyy="3.3195910788590593564e-05" iyz="0" izz="1.3625480037700539164e-05" />
</inertial>
</link>

<joint name="sero_3_vacuum_4" type="fixed">
<origin xyz="-0.094999999999999959477 -0.045000000000000373035 -0.035000000000000031086" rpy="-2.5673907444551896414e-16 -4.5080215706672108797e-30 1.570796326794896558" />
<parent link="sero_3_endeffector_base" />
<child link="sero_3_v_tube_4" />
<axis xyz="0 0 1"/>
<limit effort="1" velocity="20" />
<joint_properties friction="0.0"/>
</joint>

<joint name="sero_3_j5" type="revolute">
<origin xyz="0.14499999999999985123 -0.090000000000000301981 -0.079999999999999987788" rpy="-3.141592653589793116 1.5707963267948890085 0" />
<parent link="sero_3_link_4" />
<child link="sero_3_endeffector_base" />
<axis xyz="0 0 1"/>
<limit effort="1" velocity="20" lower="-3.141592653589793116" upper="3.141592653589793116"/>
<joint_properties friction="0.0"/>
</joint>

<joint name="sero_3_j4" type="revolute">
<origin xyz="-0.49500000000000005107 -0.14000000000000001332 -0.17000000000000009548" rpy="3.1415926535897917837 6.241086271459160841e-16 -3.1415926535897922278" />
<parent link="sero_3_link_3" />
<child link="sero_3_link_4" />
<axis xyz="0 0 1"/>
<limit effort="1" velocity="20" lower="-3.141592653589793116" upper="3.141592653589793116"/>
<joint_properties friction="0.0"/>
</joint>

<joint name="sero_3_j3" type="revolute">
<origin xyz="-0.62999999999999989342 -6.4711246131411124663e-32 1.061085658197035173e-17" rpy="-3.141592653589793116 -1.819226480685986761e-15 1.5707963267948961139" />
<parent link="sero_3_link_2" />
<child link="sero_3_link_3" />
<axis xyz="0 0 1"/>
<limit effort="1" velocity="20" lower="-3.141592653589793116" upper="3.141592653589793116"/>
<joint_properties friction="0.0"/>
</joint>

<joint name="sero_3_j2" type="revolute">
<origin xyz="-6.1629758220391547298e-33 0.12000000000000005107 -0.079999999999999960032" rpy="1.5707963267948956698 -1.5707963267948956698 0" />
<parent link="sero_3_link_1" />
<child link="sero_3_link_2" />
<axis xyz="0 0 1"/>
<limit effort="1" velocity="20" lower="0" upper="3.141592653589793116"/>
<joint_properties friction="0.0"/>
</joint>

<joint name="sero_3_j1" type="revolute">
<origin xyz="-4.1633363423443370266e-17 6.2524054036301313582e-17 0.17000000000000001221" rpy="3.141592653589793116 -3.5404820457539550914e-27 -5.5511151231290971505e-17" />
<parent link="sero_3_base" />
<child link="sero_3_link_1" />
<axis xyz="0 0 1"/>
<limit effort="1" velocity="20" lower="-3.141592653589793116" upper="3.141592653589793116"/>
<joint_properties friction="0.0"/>
</joint>

<joint name="sero_2_to_sero_3" type="fixed">
  <parent link="sero_2_base"/>
  <child link="sero_3_base"/>
  <origin xyz="2 0 0" rpy="0 0 0"/>
</joint>

</robot>
